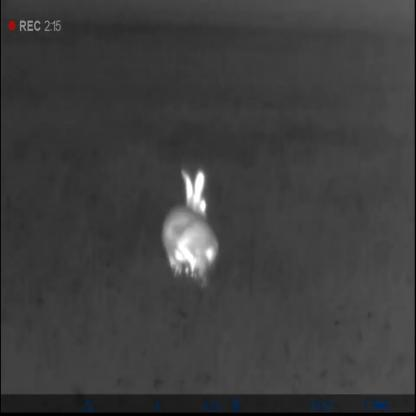rehkitze: (163, 167, 223, 290)
